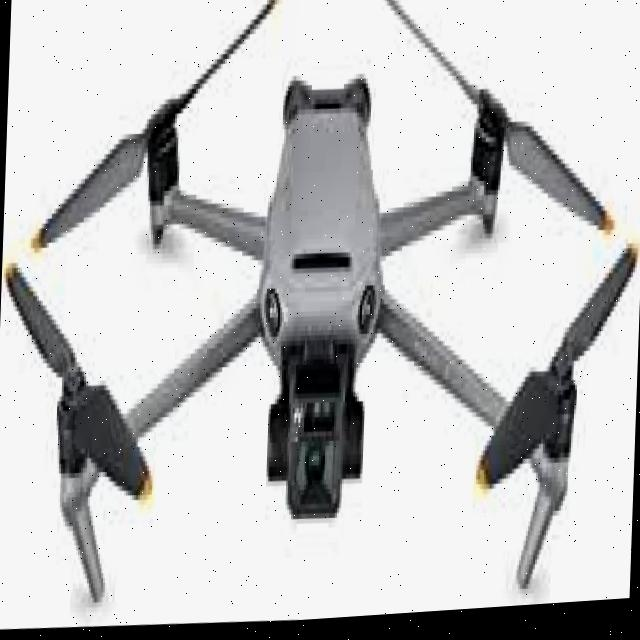drone: (13, 0, 633, 639)
